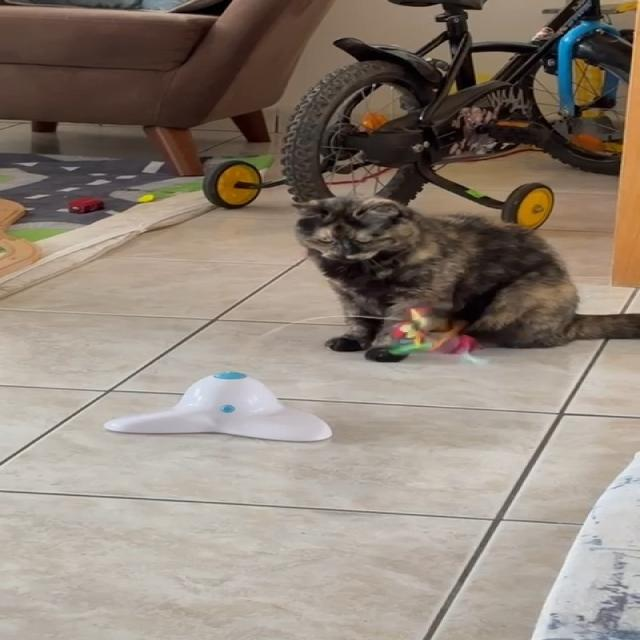authorized: (289, 192, 639, 352)
